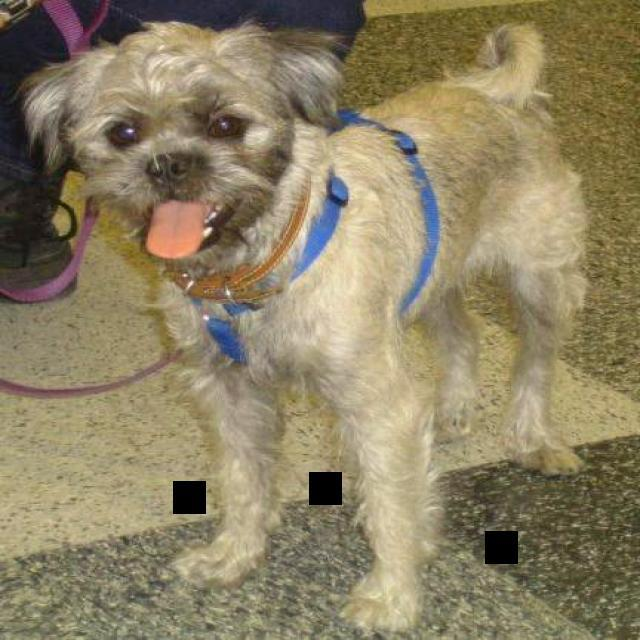adult_dog: (21, 18, 586, 632)
